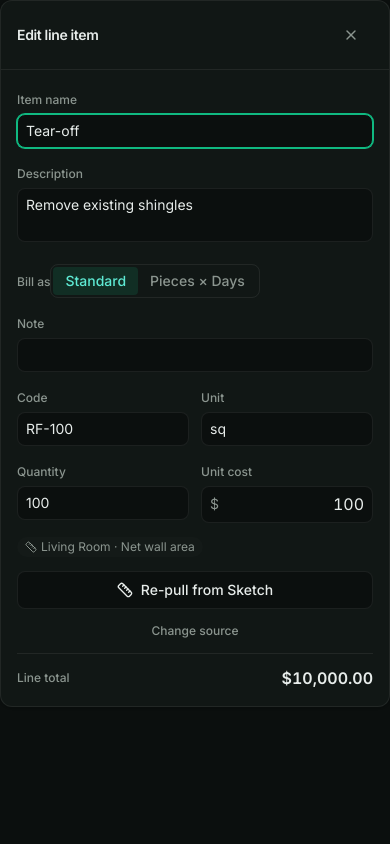
LineItemEditorPanel — equipment pricing (#682) › Re-pull contract (#864) › cancels the re-pull without applying — nothing changes
The image size is (390, 844).
Click the button with test id "sketch-repull-button": (195, 590) [17,571,373,609]
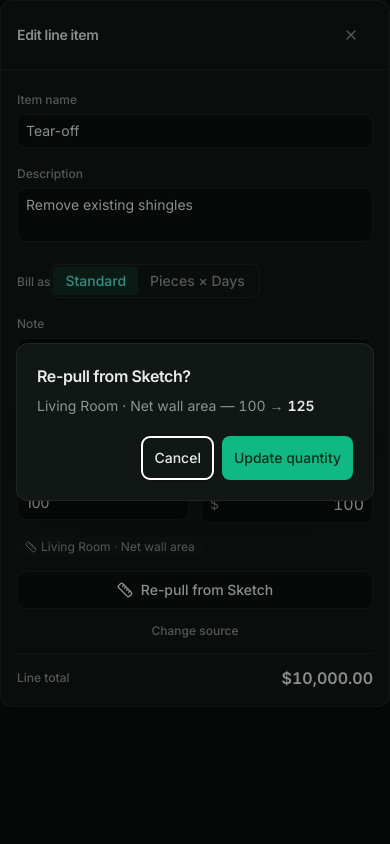
Expected: the element with test id "repull-old-vs-new" is shown, [37,397,315,414]
Click the button "Cancel": (178, 458) [142,436,214,480]
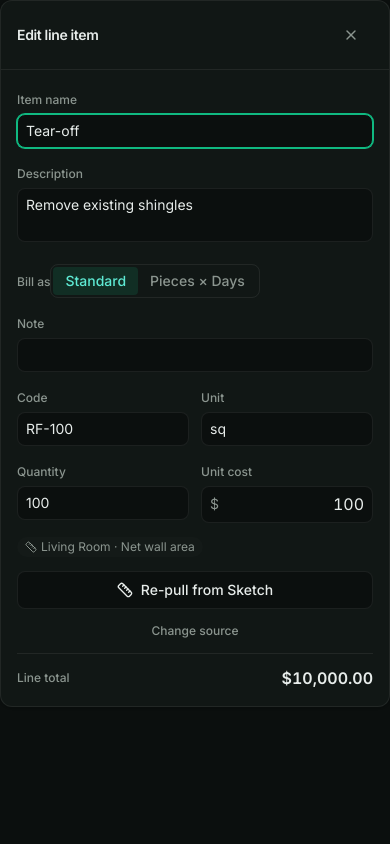
Expected: the element with test id "repull-old-vs-new" is gone
